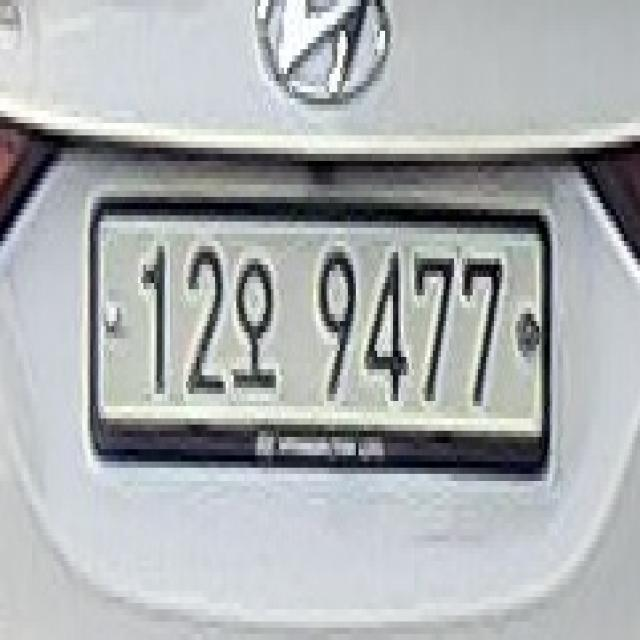1: (136, 228, 176, 412)
2: (184, 240, 228, 406)
4: (364, 240, 406, 412)
7: (460, 252, 508, 425), (412, 252, 459, 412)
9: (308, 240, 361, 406)
license_plate: (82, 191, 558, 486)
o: (231, 240, 279, 400)
